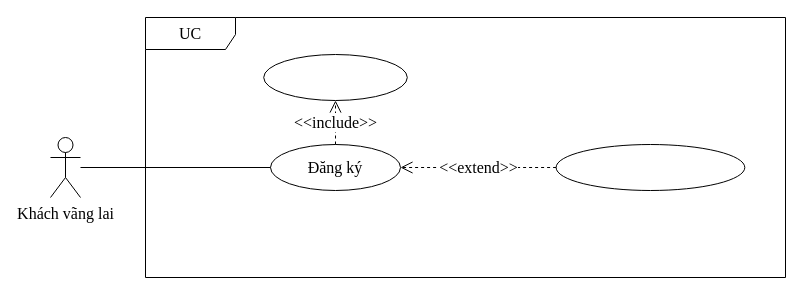
The diagram is 803 pixels wide and 295 high, and some of its shapes have lost their labels. Each missing label, with the centre of its shape:
Gửi lại email xác thực: point 650,167
Xác thực email: point 335,77
